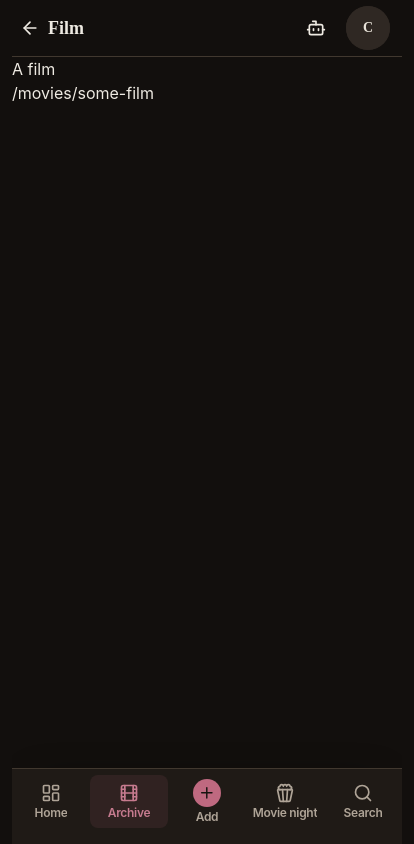
AppLayout phone top bar — Batch T3 › returns a film opened from Deals to Deals
This screenshot has width=414, height=844.
Click the button named "Back" at (30, 28), box [20, 18, 40, 38]
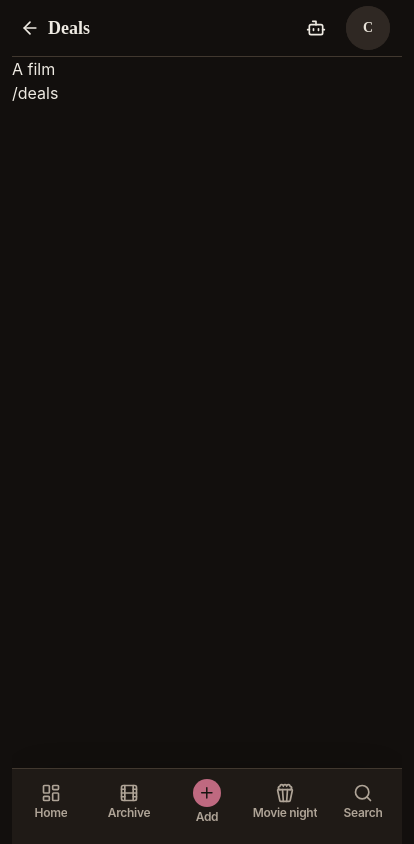
Expected: the text named "Current page" reads "/deals", [12, 83, 58, 103]
